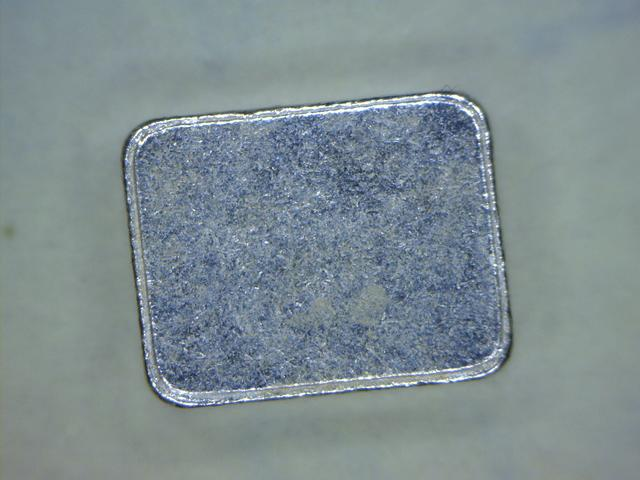nok: (104, 73, 529, 411)
